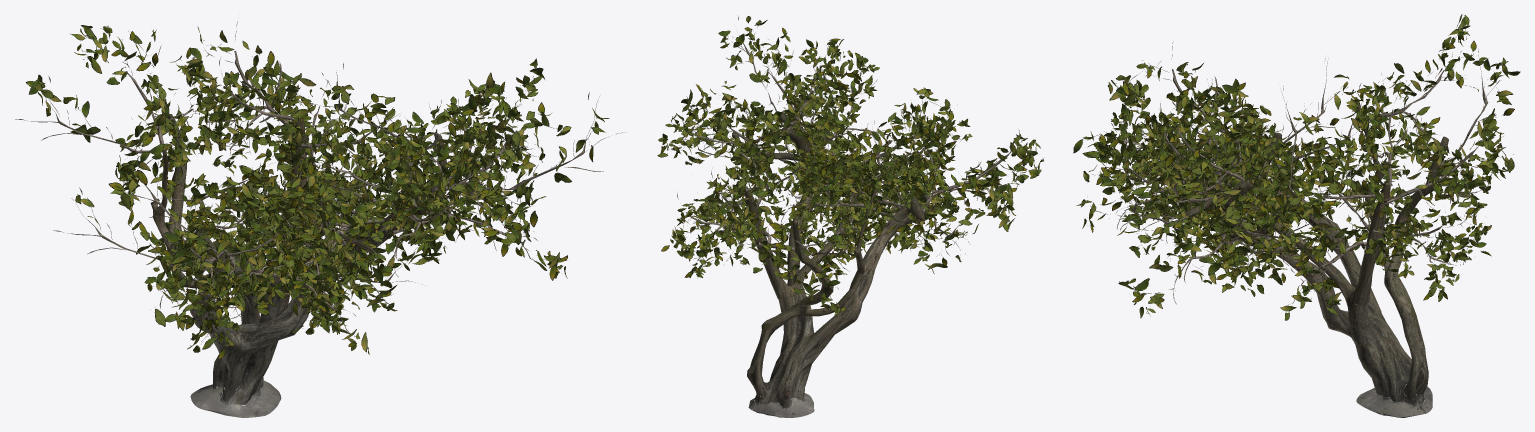
File: island_tree_02.glb
The picture shows the model from 3 angles, left to right: view 1: azimuth 30°, elevation 25°; view 2: azimuth 150°, elevation 25°; view 3: azimuth 270°, elevation 25°; orthographic projection. The views are drawn at different scales.
Visible parts, largest first — view 1: island_tree_02; view 2: island_tree_02; view 3: island_tree_02.
Part boxes in pixels (bbox=[...]): island_tree_02: bbox=[15, 21, 625, 417]; island_tree_02: bbox=[657, 15, 1043, 417]; island_tree_02: bbox=[1073, 14, 1520, 417].
Size of the model in its own units: 4.2 by 3.36 by 4.06.
3 materials, 3 textured.
